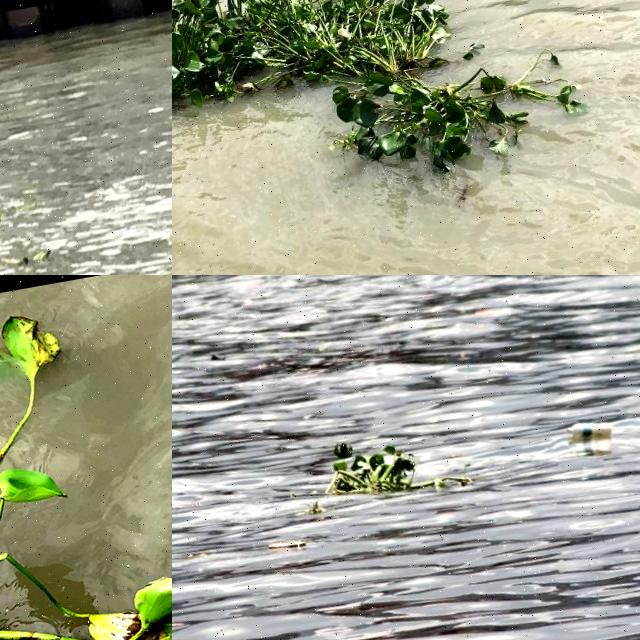plastic bottle: (567, 423, 618, 436)
water-hyacinth: (1, 276, 173, 640), (307, 37, 595, 202), (173, 1, 459, 134), (313, 420, 464, 511)
